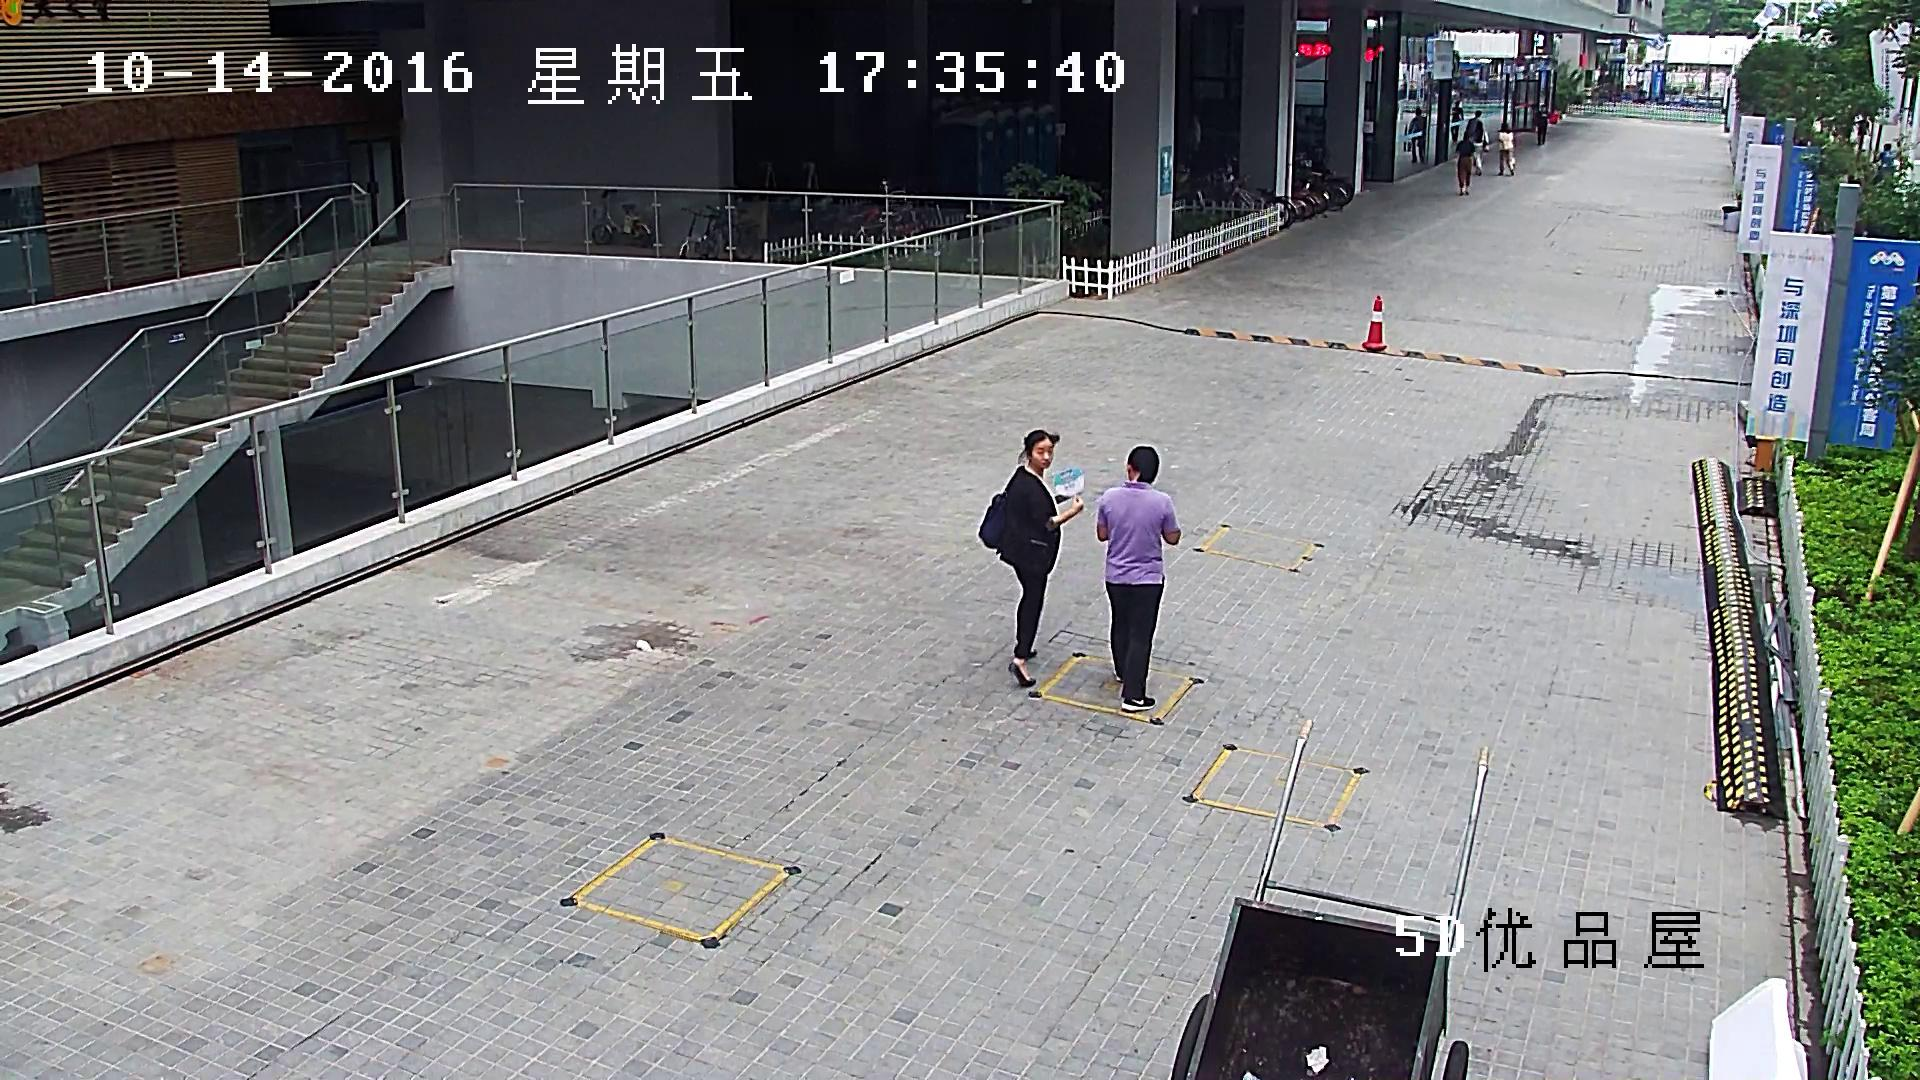person: (977, 431, 1084, 685), (1096, 445, 1180, 715), (1455, 130, 1475, 193), (1465, 110, 1485, 173), (1408, 107, 1425, 166), (1497, 122, 1515, 174), (1874, 141, 1894, 171), (1450, 98, 1464, 141), (1857, 112, 1870, 150), (1536, 104, 1547, 144)
